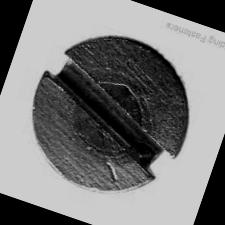screw: (13, 16, 208, 214)
